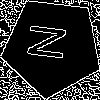N: (27, 22, 76, 63)
